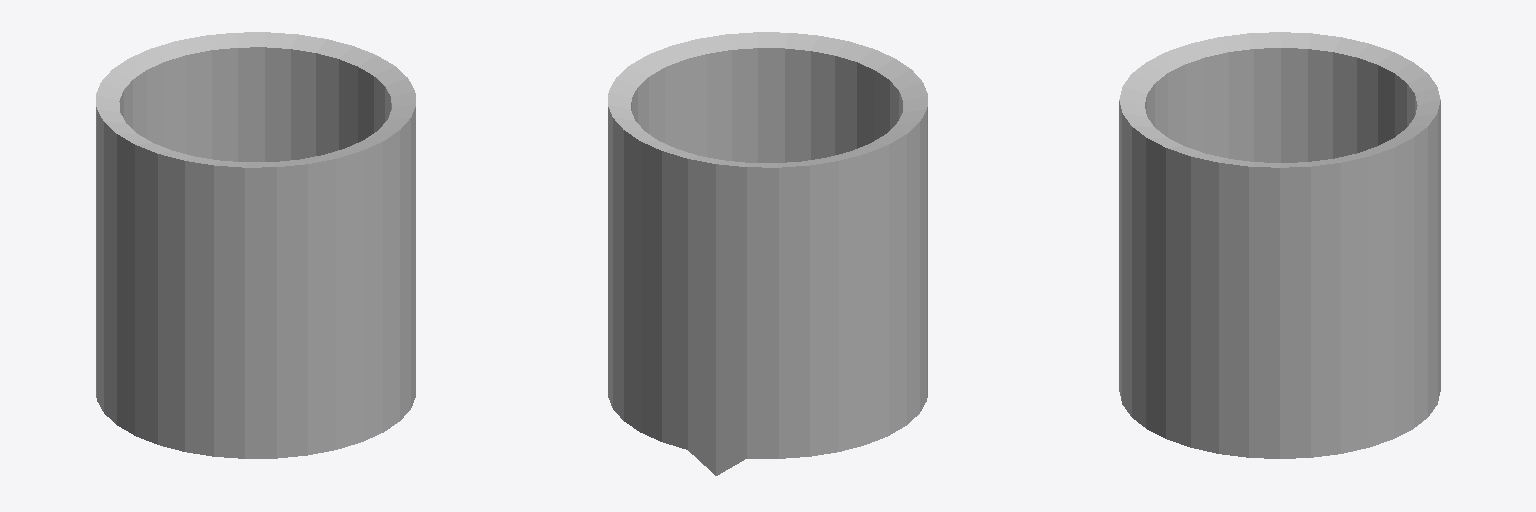
Rendered from cannon.obj.
3 views of the same model, side by side, from view 1: azimuth 30°, elevation 25°; view 2: azimuth 150°, elevation 25°; view 3: azimuth 270°, elevation 25° (orthographic).
Parts seen in each view (by area): view 1: Cylinder; view 2: Cylinder; view 3: Cylinder.
Part boxes in pixels (left/top/right/bottom): Cylinder: left=96, top=32, right=415, bottom=458; Cylinder: left=608, top=32, right=927, bottom=475; Cylinder: left=1119, top=32, right=1440, bottom=458.
Bounding box in the file's own units: 2.35 × 2.52 × 2.35.